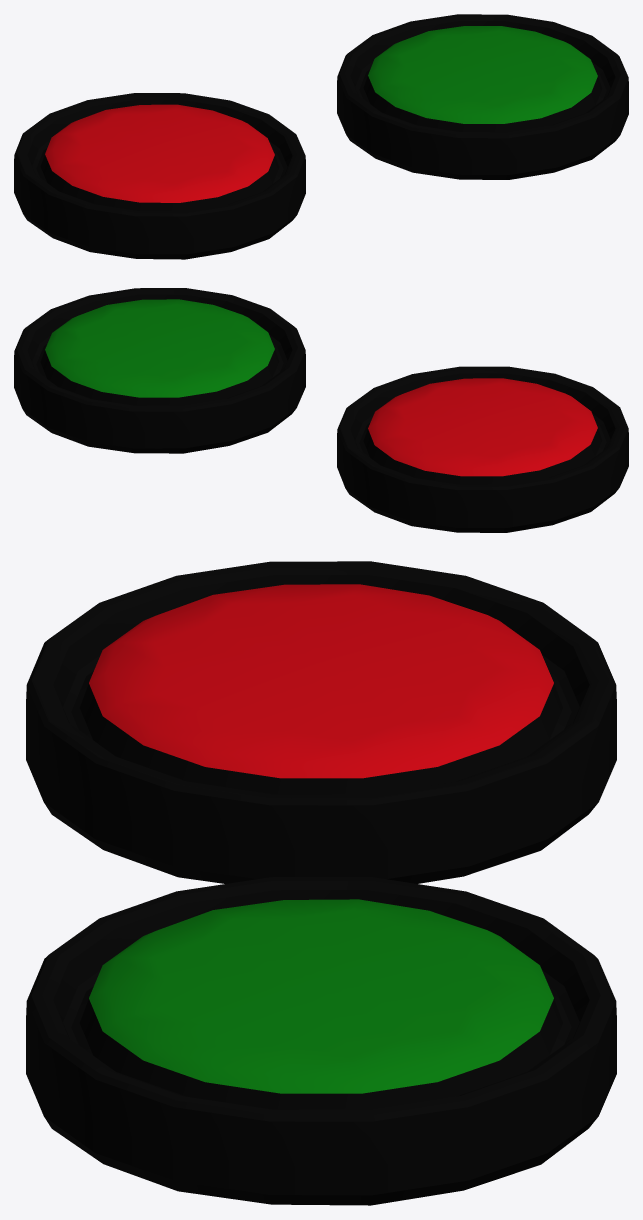
Rendered from button1.fbx.
The picture shows the model from 3 angles, top to bottom: view 1: azimuth 30°, elevation 25°; view 2: azimuth 150°, elevation 25°; view 3: azimuth 270°, elevation 25°; orthographic projection. The views are drawn at different scales.
Parts seen in each view (by area): view 1: button; view 2: button; view 3: button.
Boxes of the visible parts, x1,y1,x2,y2 form: button: [14, 14, 628, 259]; button: [14, 288, 628, 532]; button: [26, 561, 616, 1205].
Bounding box in the file's own units: 10.61 × 4.75 × 0.9916.
